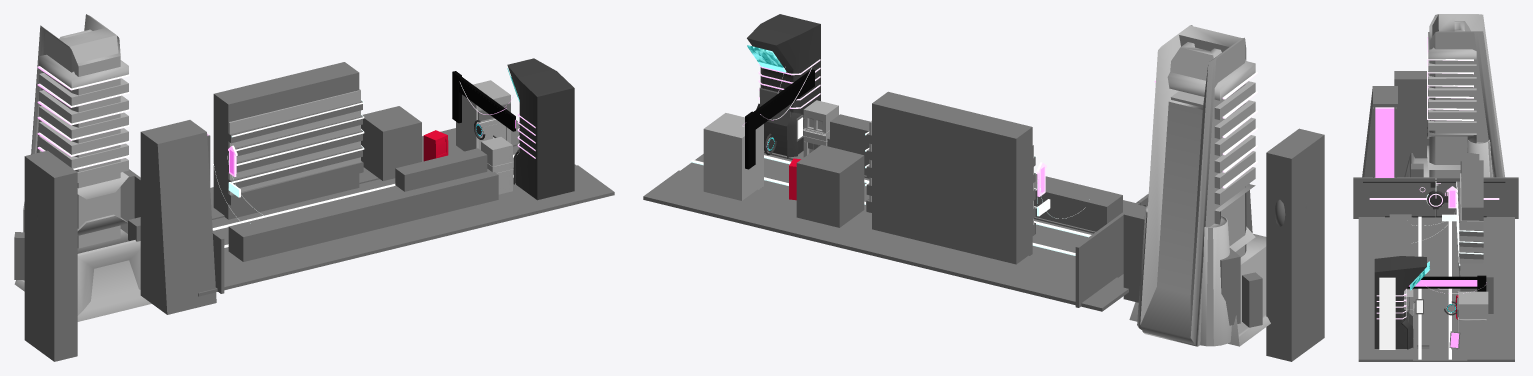
Rendered from street.gltf.
3 renders of one model, left to right at view 1: azimuth 30°, elevation 25°; view 2: azimuth 150°, elevation 25°; view 3: azimuth 270°, elevation 25°, orthographic. The views are drawn at different scales.
Parts seen in each view (by area): view 1: pasted__polySurface4391, pasted__pasted__pCube50, polySurface29, polySurface3, pasted__pasted__pCube50.001, pCube51, polySurface17, pCube47, pCube65, polySurface12, pCube16, polySurface34 (+10 smaller); view 2: pasted__polySurface4391, polySurface29, polySurface3, pasted__pasted__pCube50.001, pCube47, polySurface17, pCube16, pCube51, pasted__pCube50, polySurface45, polySurface51, polySurface1 (+6 smaller); view 3: polySurface3, pasted__polySurface4391, pasted__pasted__pCube50.001, polySurface17, polySurface29, pCube16, polySurface47, pasted__pasted__pCube50, pCube59, polySurface50, pCube49, polySurface45 (+16 smaller).
Part boxes in pixels (x1=…): pasted__polySurface4391: x1=14, y1=14, x2=151, y2=321; pasted__pasted__pCube50: x1=140, y1=120, x2=216, y2=314; polySurface29: x1=213, y1=62, x2=362, y2=219; polySurface3: x1=198, y1=120, x2=614, y2=296; pasted__pasted__pCube50.001: x1=24, y1=150, x2=77, y2=361; pCube51: x1=228, y1=169, x2=498, y2=261; polySurface17: x1=507, y1=58, x2=574, y2=200; pCube47: x1=361, y1=106, x2=421, y2=180; pCube65: x1=395, y1=148, x2=487, y2=191; polySurface12: x1=228, y1=89, x2=360, y2=134; pCube16: x1=456, y1=80, x2=510, y2=151; polySurface34: x1=231, y1=160, x2=363, y2=205; pasted__polySurface4391: x1=1129, y1=25, x2=1270, y2=346; polySurface29: x1=866, y1=91, x2=1035, y2=264; polySurface3: x1=643, y1=150, x2=1134, y2=311; pasted__pasted__pCube50.001: x1=1266, y1=128, x2=1324, y2=361; pCube47: x1=796, y1=145, x2=864, y2=227; polySurface17: x1=747, y1=14, x2=820, y2=155; pCube16: x1=703, y1=113, x2=763, y2=200; pCube51: x1=827, y1=137, x2=1122, y2=231; pasted__pCube50: x1=1123, y1=204, x2=1145, y2=302; polySurface45: x1=1075, y1=202, x2=1139, y2=277; polySurface51: x1=1075, y1=246, x2=1123, y2=307; polySurface1: x1=803, y1=100, x2=838, y2=157; polySurface3: x1=1358, y1=210, x2=1514, y2=361; pasted__polySurface4391: x1=1404, y1=14, x2=1504, y2=209; pasted__pasted__pCube50.001: x1=1394, y1=71, x2=1429, y2=177; polySurface17: x1=1374, y1=256, x2=1426, y2=348; polySurface29: x1=1457, y1=160, x2=1483, y2=274; pCube16: x1=1458, y1=291, x2=1488, y2=347; polySurface47: x1=1353, y1=177, x2=1435, y2=198; pasted__pasted__pCube50: x1=1362, y1=86, x2=1397, y2=177; pCube59: x1=1375, y1=107, x2=1394, y2=177; polySurface50: x1=1353, y1=198, x2=1435, y2=218; pCube49: x1=1379, y1=277, x2=1395, y2=349; polySurface45: x1=1436, y1=177, x2=1518, y2=198.
Bounding box in the file's own units: 1.79 × 0.9023 × 0.6438.
15 materials, 1 textured.
